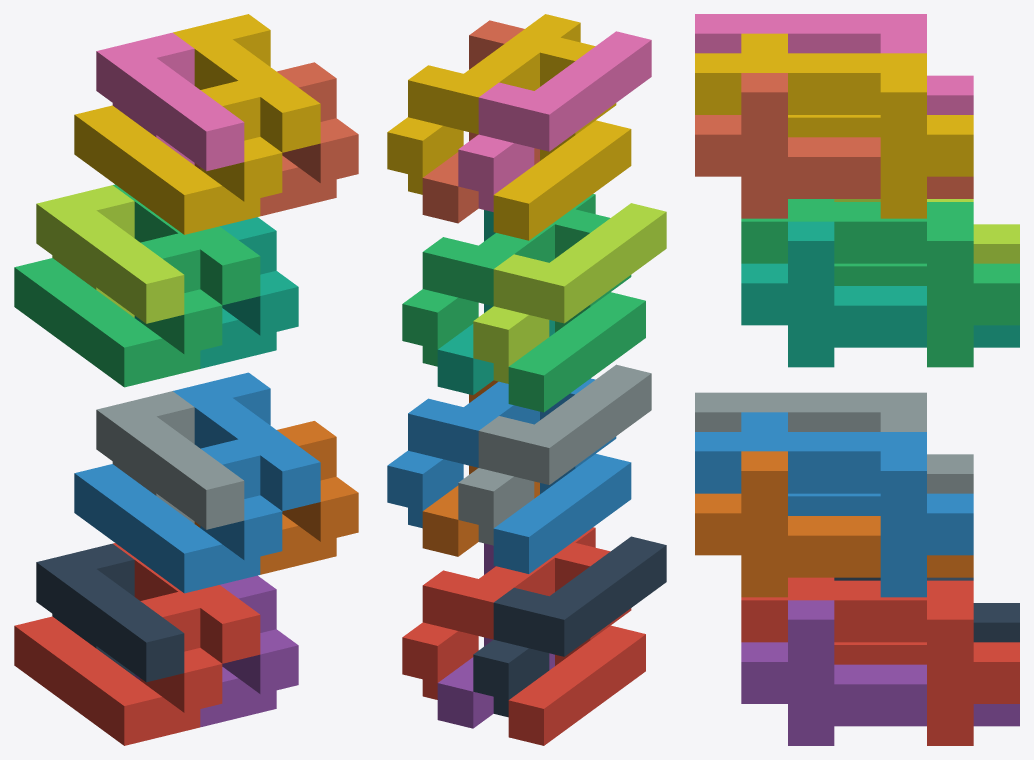
The model's file is tiling.obj.
3 renders of one model, left to right at view 1: azimuth 30°, elevation 25°; view 2: azimuth 150°, elevation 25°; view 3: azimuth 270°, elevation 25°, orthographic. The views are drawn at different scales.
Parts seen in each view (by area): view 1: copy_1_domain_1, copy_1_domain_2, copy_1_domain_4, copy_1_domain_3, copy_2_domain_1, copy_2_domain_3, copy_2_domain_2, copy_2_domain_4, copy_2_domain_6, copy_2_domain_8, copy_1_domain_8, copy_1_domain_6 (+4 smaller); view 2: copy_2_domain_4, copy_2_domain_1, copy_2_domain_2, copy_2_domain_3, copy_2_domain_8, copy_1_domain_4, copy_1_domain_3, copy_1_domain_1, copy_2_domain_7, copy_2_domain_5, copy_1_domain_2, copy_2_domain_6 (+4 smaller); view 3: copy_2_domain_6, copy_2_domain_8, copy_2_domain_5, copy_2_domain_7, copy_1_domain_6, copy_1_domain_7, copy_1_domain_5, copy_1_domain_8, copy_2_domain_2, copy_2_domain_4, copy_1_domain_4, copy_1_domain_2 (+4 smaller).
Part boxes in pixels (x1=…): copy_1_domain_1: x1=14, y1=592, x2=222, y2=745; copy_1_domain_2: x1=74, y1=439, x2=282, y2=593; copy_1_domain_4: x1=74, y1=81, x2=282, y2=234; copy_1_domain_3: x1=14, y1=233, x2=222, y2=387; copy_2_domain_1: x1=36, y1=543, x2=184, y2=682; copy_2_domain_3: x1=36, y1=185, x2=184, y2=323; copy_2_domain_2: x1=96, y1=391, x2=244, y2=529; copy_2_domain_4: x1=96, y1=32, x2=244, y2=171; copy_2_domain_6: x1=173, y1=372, x2=320, y2=511; copy_2_domain_8: x1=173, y1=14, x2=320, y2=152; copy_1_domain_8: x1=194, y1=62, x2=358, y2=216; copy_1_domain_6: x1=194, y1=421, x2=358, y2=574; copy_2_domain_4: x1=458, y1=31, x2=651, y2=211; copy_2_domain_1: x1=473, y1=536, x2=666, y2=717; copy_2_domain_2: x1=458, y1=364, x2=651, y2=545; copy_2_domain_3: x1=473, y1=203, x2=666, y2=383; copy_2_domain_8: x1=387, y1=14, x2=580, y2=194; copy_1_domain_4: x1=493, y1=37, x2=631, y2=240; copy_1_domain_3: x1=508, y1=209, x2=645, y2=412; copy_1_domain_1: x1=508, y1=543, x2=645, y2=745; copy_2_domain_7: x1=402, y1=194, x2=595, y2=366; copy_2_domain_5: x1=402, y1=527, x2=595, y2=699; copy_1_domain_2: x1=493, y1=378, x2=631, y2=573; copy_2_domain_6: x1=387, y1=381, x2=539, y2=528; copy_2_domain_6: x1=695, y1=432, x2=973, y2=597; copy_2_domain_8: x1=695, y1=53, x2=973, y2=218; copy_2_domain_5: x1=741, y1=580, x2=1019, y2=745; copy_2_domain_7: x1=741, y1=202, x2=1019, y2=367; copy_1_domain_6: x1=695, y1=451, x2=973, y2=597; copy_1_domain_7: x1=741, y1=221, x2=1019, y2=367; copy_1_domain_5: x1=741, y1=600, x2=1019, y2=745; copy_1_domain_8: x1=695, y1=73, x2=973, y2=218; copy_2_domain_2: x1=695, y1=392, x2=973, y2=493; copy_2_domain_4: x1=695, y1=14, x2=973, y2=114; copy_1_domain_4: x1=741, y1=33, x2=880, y2=137; copy_1_domain_2: x1=741, y1=412, x2=880, y2=515.
Bounding box in the file's own units: 5 × 16 × 7.
